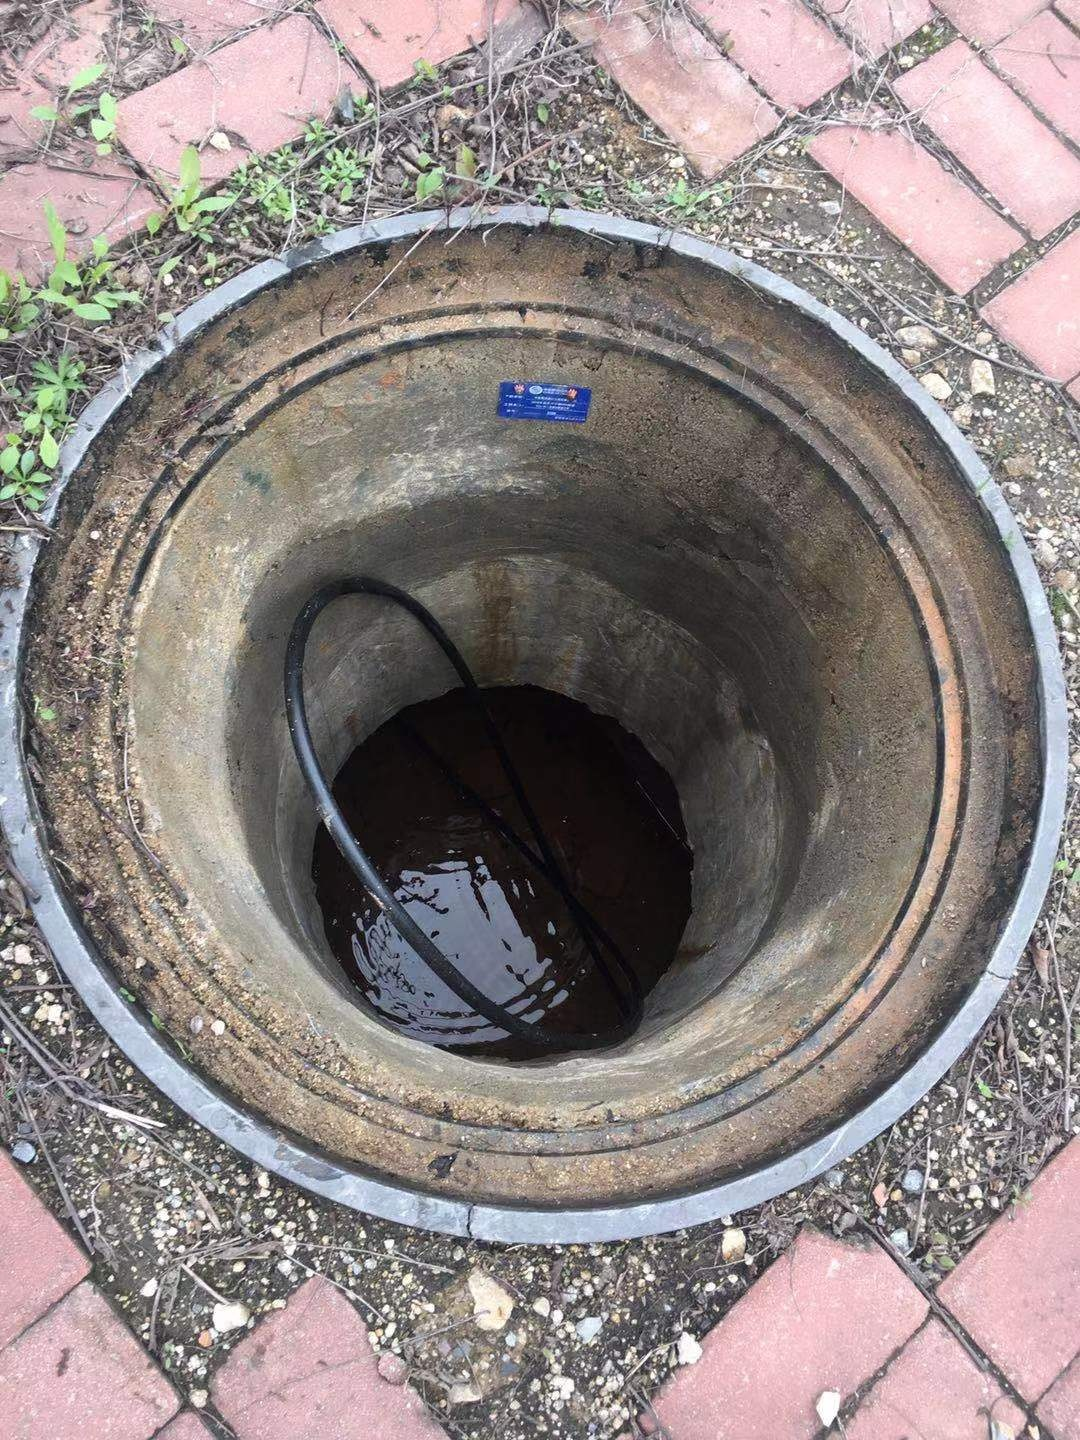well: (10, 197, 1040, 1261)
